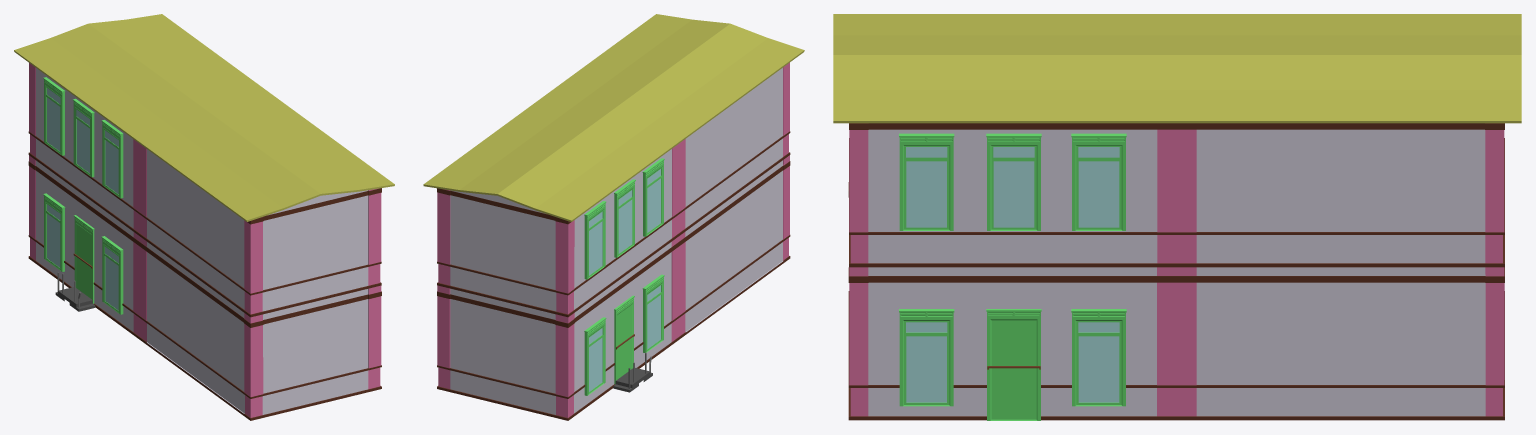
Rendered from House_structure_00_V0.fbx.
3 renders of one model, left to right at view 1: azimuth 30°, elevation 25°; view 2: azimuth 150°, elevation 25°; view 3: azimuth 270°, elevation 25°, orthographic. The views are drawn at different scales.
Visible parts, largest first — view 1: House_structure_00.020; view 2: House_structure_00.020; view 3: House_structure_00.020.
Part boxes in pixels (box(x1,y1,x2,y2)): House_structure_00.020: box(14, 14, 394, 420); House_structure_00.020: box(423, 14, 804, 420); House_structure_00.020: box(833, 14, 1521, 420).
Size of the model in its own units: 475 by 624 by 1224.
